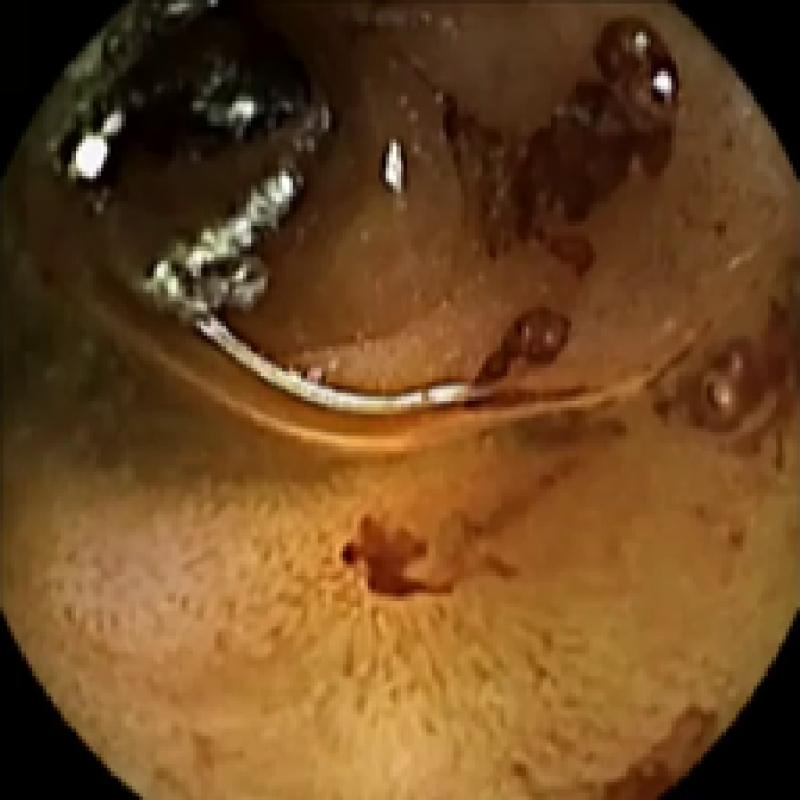bleeding: (414, 18, 686, 271), (677, 297, 800, 469), (460, 302, 591, 415), (338, 504, 454, 596)
